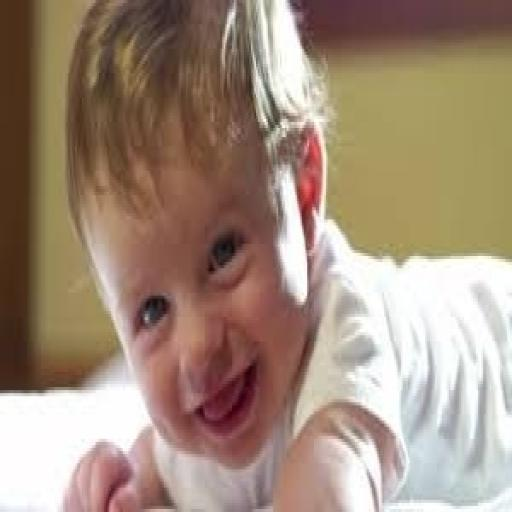laughing: (48, 3, 505, 506)
